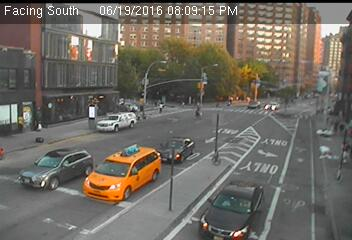neg: (200, 198, 222, 229), (214, 101, 236, 130), (113, 146, 134, 174), (135, 47, 155, 74), (76, 97, 96, 124), (165, 132, 183, 157), (311, 28, 327, 50), (187, 89, 203, 110), (241, 42, 257, 63), (323, 91, 339, 112), (40, 112, 55, 133), (48, 168, 63, 188), (264, 191, 279, 211), (289, 63, 303, 83), (198, 45, 212, 63), (40, 141, 54, 159), (299, 148, 312, 165), (68, 58, 80, 76), (109, 57, 121, 73), (301, 110, 312, 124), (257, 142, 267, 156)
